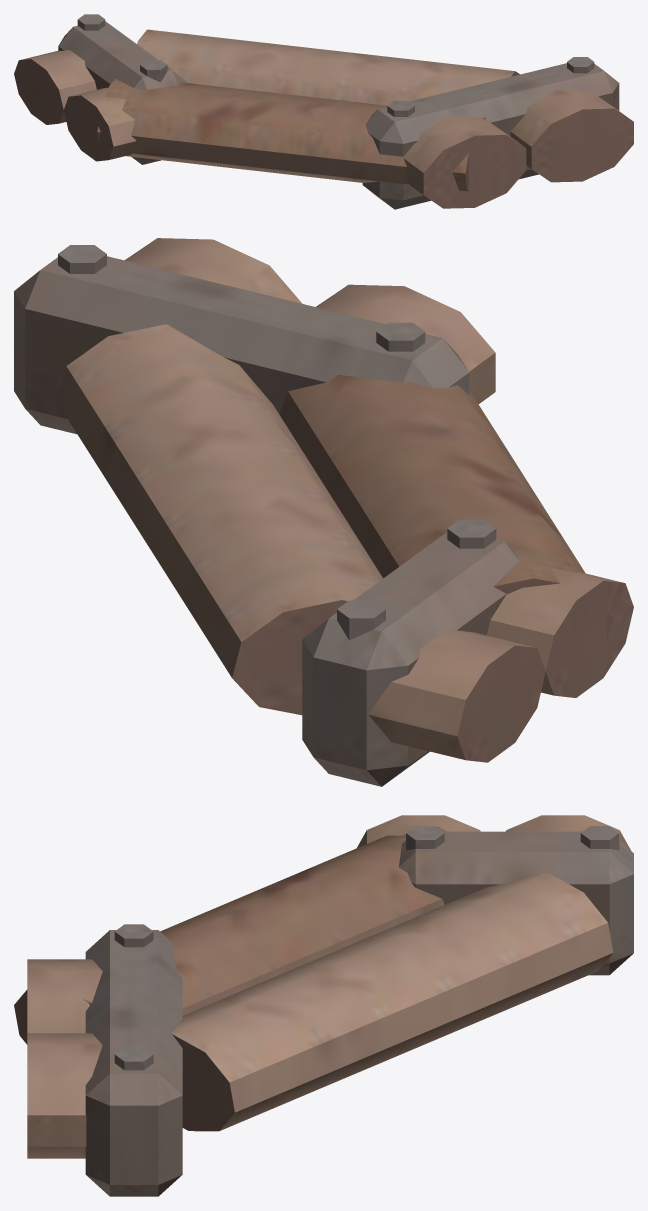
Rendered from heat-pipe-corner-down-left.glb.
3 views of the same model, one above another, from view 1: azimuth 30°, elevation 25°; view 2: azimuth 150°, elevation 25°; view 3: azimuth 270°, elevation 25° (orthographic). The views are drawn at different scales.
Parts seen in each view (by area): view 1: body; view 2: body; view 3: body.
Boxes of the visible parts, left/top/right/bottom form: body: left=14, top=14, right=633, bottom=209; body: left=14, top=238, right=633, bottom=786; body: left=14, top=815, right=633, bottom=1196.
Bounding box in the file's own units: 0.7038 × 0.15 × 0.6388.
1 material, 1 textured.
